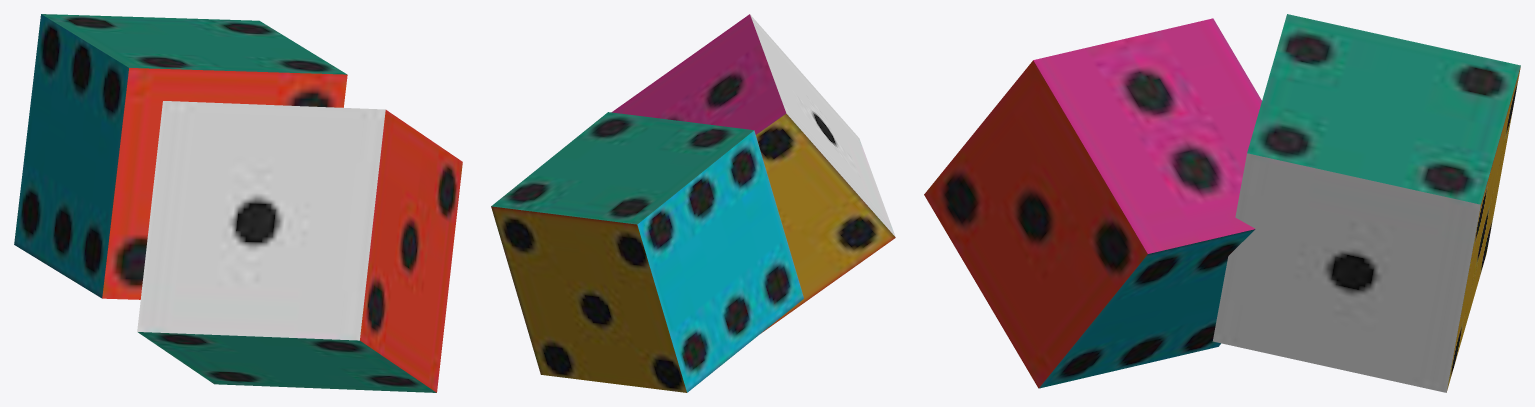
File: dados.glb
3 views of the same model, side by side, from view 1: azimuth 30°, elevation 25°; view 2: azimuth 150°, elevation 25°; view 3: azimuth 270°, elevation 25° (orthographic). The views are drawn at different scales.
Parts seen in each view (by area): view 1: Cube, Cube.001; view 2: Cube.001, Cube; view 3: Cube, Cube.001.
Boxes of the visible parts, box(x1,y1,x2,y2) form: Cube: box(137, 101, 462, 392); Cube.001: box(14, 14, 347, 299); Cube.001: box(491, 112, 803, 392); Cube: box(611, 14, 895, 333); Cube: box(924, 18, 1261, 388); Cube.001: box(1212, 14, 1520, 392).
Size of the model in its own units: 3.38 by 3 by 4.98.
Materials: 2 (2 with a texture image).
